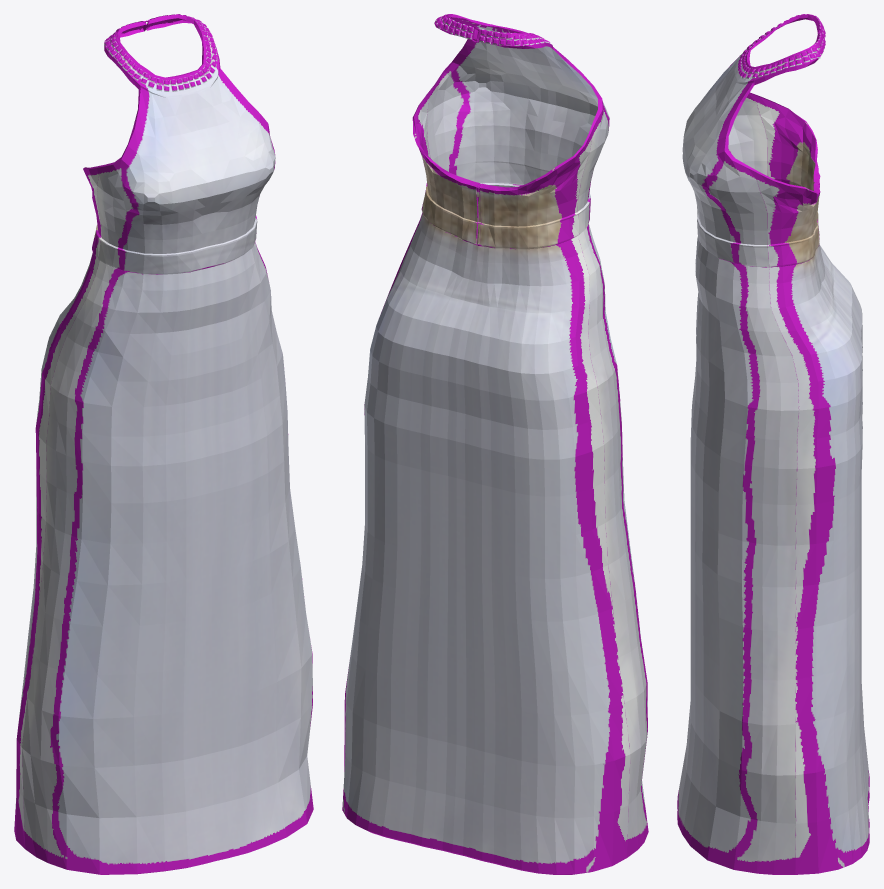
3 views of the same model, side by side, from view 1: azimuth 30°, elevation 25°; view 2: azimuth 150°, elevation 25°; view 3: azimuth 270°, elevation 25° (orthographic). The views are drawn at different scales.
Bounding box in the file's own units: 0.276 × 0.7565 × 0.1686.
1 material, 1 textured.
